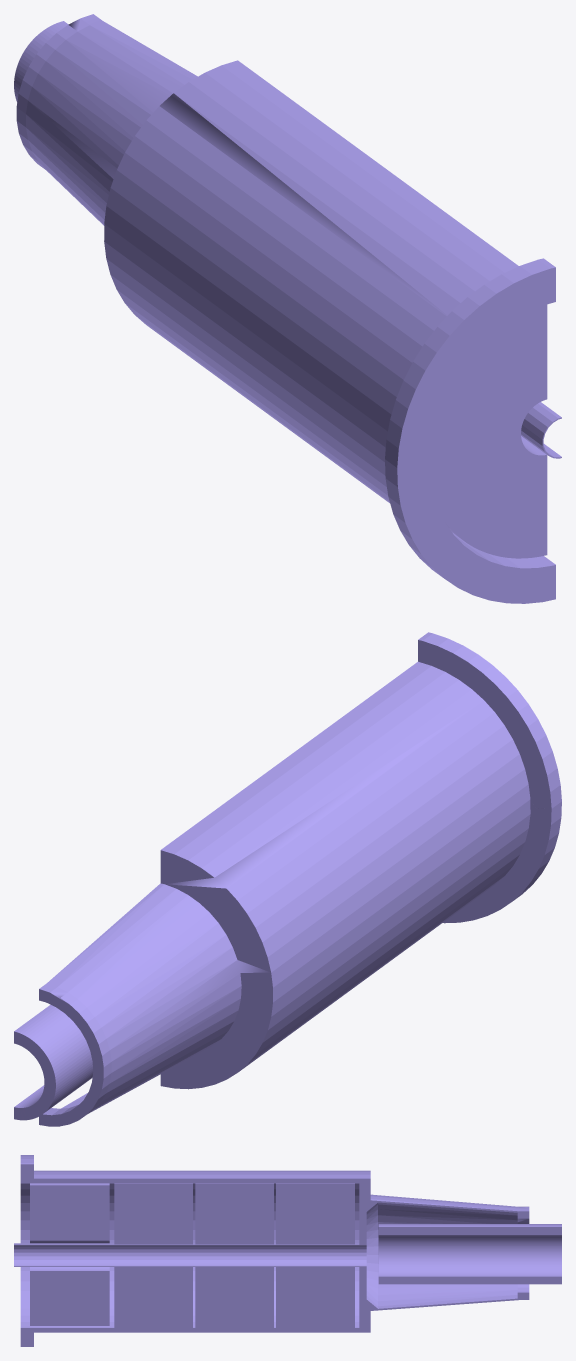
The model's file is Lar-FCAL-SideA-cut2.glb.
The picture shows the model from 3 angles, top to bottom: view 1: azimuth 30°, elevation 25°; view 2: azimuth 150°, elevation 25°; view 3: azimuth 270°, elevation 25°; orthographic projection. The views are drawn at different scales.
Parts seen in each view (by area): view 1: null; view 2: null; view 3: null.
Boxes of the visible parts, left/top/right/bottom form: null: left=14, top=14, right=561, bottom=603; null: left=14, top=632, right=561, bottom=1126; null: left=14, top=1155, right=561, bottom=1346.
Size of the model in its own units: 0.5707 by 1.14 by 3.1.
